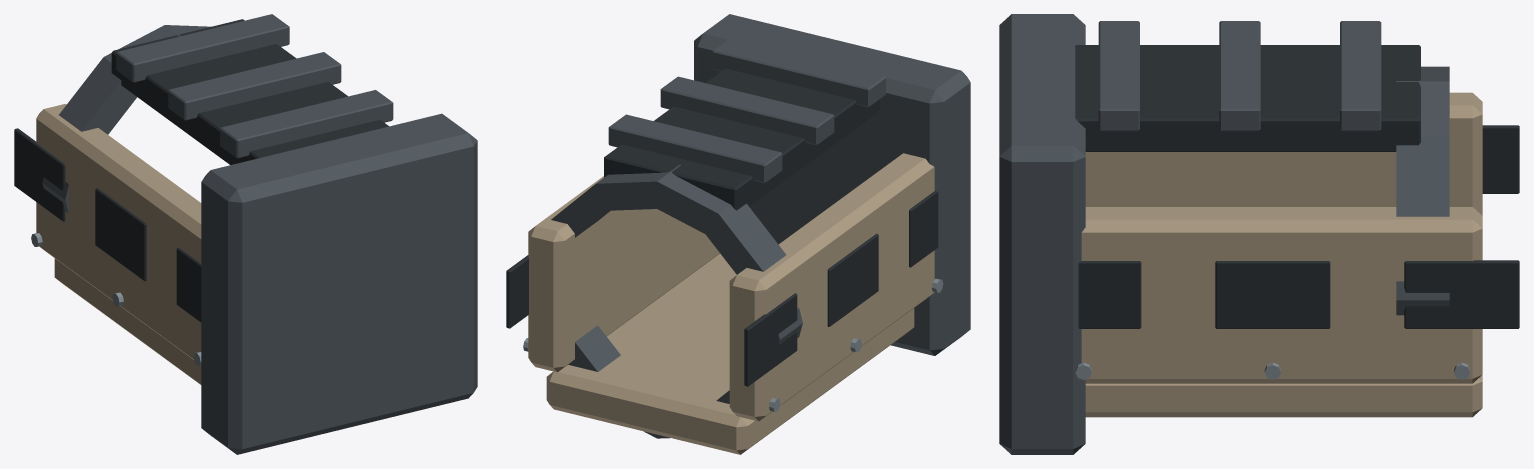
Rendered from att_handguard_swift9.glb.
3 renders of one model, left to right at view 1: azimuth 30°, elevation 25°; view 2: azimuth 150°, elevation 25°; view 3: azimuth 270°, elevation 25°, orthographic. The views are drawn at different scales.
Parts seen in each view (by area): view 1: Geometry_att_handguard_swift9; view 2: Geometry_att_handguard_swift9; view 3: Geometry_att_handguard_swift9.
Boxes of the visible parts, x1,y1,x2,y2 form: Geometry_att_handguard_swift9: [14, 14, 477, 454]; Geometry_att_handguard_swift9: [506, 14, 970, 454]; Geometry_att_handguard_swift9: [999, 14, 1519, 454].
Bounding box in the file's own units: 0.0817 × 0.087 × 0.1265.
